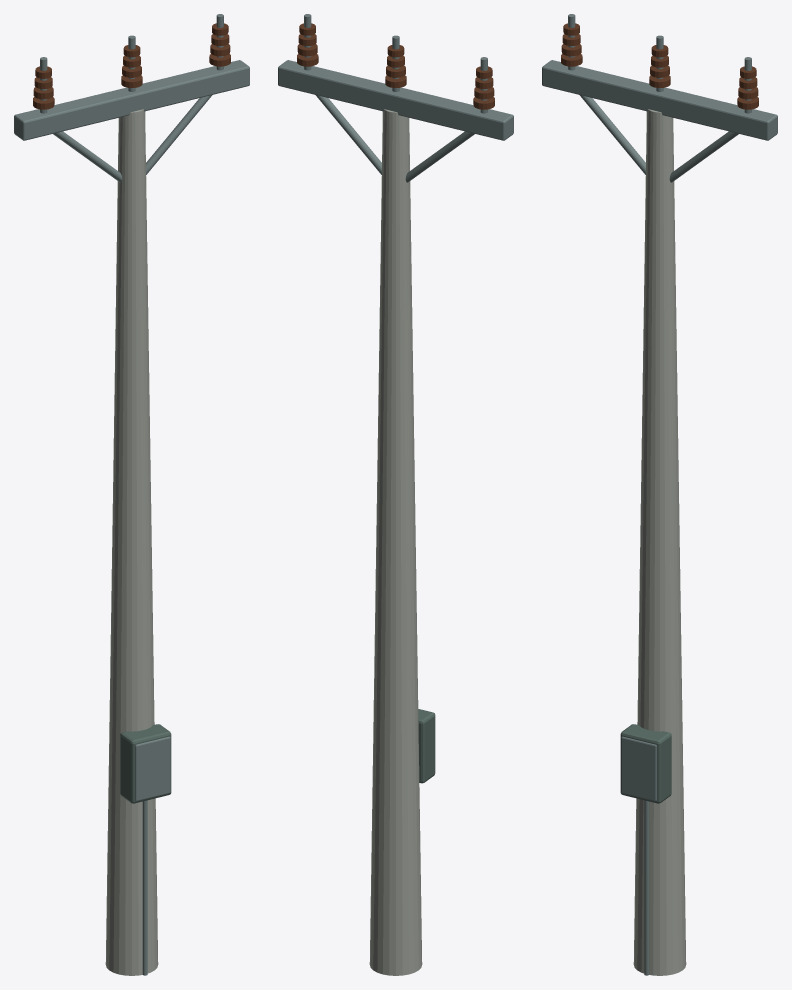
The model's file is street-utility-pole.glb.
3 renders of one model, left to right at view 1: azimuth 30°, elevation 25°; view 2: azimuth 150°, elevation 25°; view 3: azimuth 330°, elevation 25°, orthographic.
Visible parts, largest first — view 1: POLE_Tapered, CROSSARM, BOX_Door, BOX_Casing, CONDUIT, BRACE_0.65, BRACE_-0.65; view 2: POLE_Tapered, CROSSARM, BOX_Casing, BRACE_0.65, BRACE_-0.65; view 3: POLE_Tapered, CROSSARM, BOX_Door, BOX_Casing, CONDUIT, BRACE_-0.65, BRACE_0.65.
Boxes of the visible parts, box(x1,y1,x2,y2) form: POLE_Tapered: box(105, 109, 158, 975); CROSSARM: box(14, 60, 249, 140); BOX_Door: box(135, 736, 170, 801); BOX_Casing: box(120, 724, 171, 803); CONDUIT: box(142, 800, 147, 975); BRACE_0.65: box(146, 95, 212, 174); BRACE_-0.65: box(53, 131, 122, 182); POLE_Tapered: box(369, 109, 422, 975); CROSSARM: box(278, 60, 513, 140); BOX_Casing: box(418, 709, 435, 783); BRACE_0.65: box(315, 95, 381, 174); BRACE_-0.65: box(405, 131, 474, 182); POLE_Tapered: box(633, 109, 686, 975); CROSSARM: box(542, 60, 777, 140); BOX_Door: box(621, 736, 656, 801); BOX_Casing: box(620, 724, 671, 803); CONDUIT: box(644, 800, 649, 975); BRACE_-0.65: box(579, 95, 645, 174); BRACE_0.65: box(669, 131, 738, 182).
Size of the model in its own units: 1.8 by 7.03 by 0.476.
